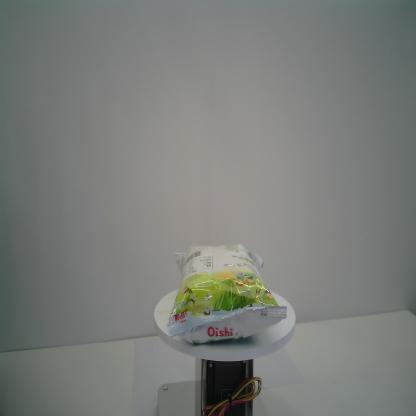Puffed Food: (165, 244, 287, 346)
